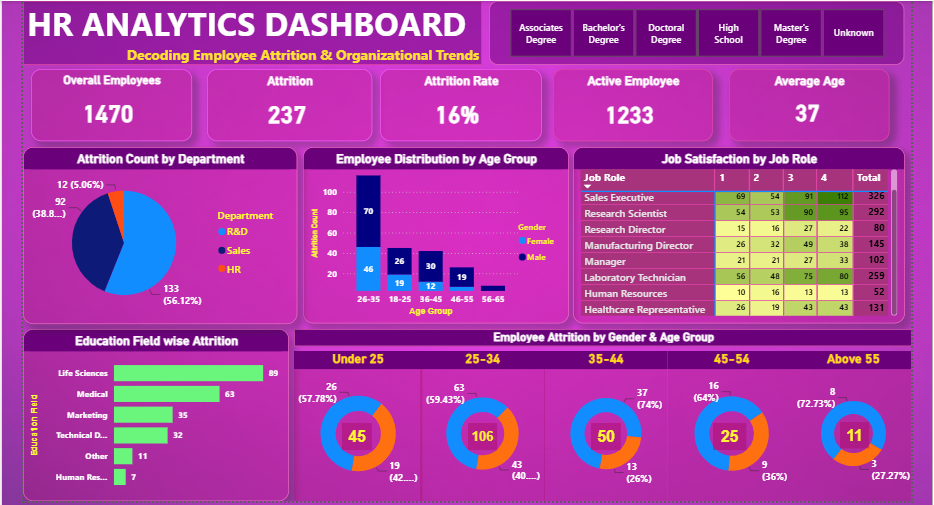

This screenshot's page, from the dashboard's own definition file:
{"tool":"powerbi","page":{"name":"Dashboard","canvas":[1280,720],"ordinal":1},"visuals":[{"type":"advanceCardE03760C5AB684758B56AA29F9E6C257B","title":"Overall Employees","fields":{"mainMeasure":["HR_Analytics_Cleaned.Employee Count"]},"box":[11.1,98.6,231.9,104.2],"z":0},{"type":"advanceCardE03760C5AB684758B56AA29F9E6C257B","title":"Attrition","fields":{"mainMeasure":["HR_Analytics_Cleaned.Attrition Count"]},"box":[265.3,98.6,237.5,104.2],"z":1000},{"type":"advanceCardE03760C5AB684758B56AA29F9E6C257B","title":"Attrition Rate","fields":{"mainMeasure":["HR_Analytics_Cleaned.Attrition Rate"]},"box":[513.9,98.6,233.3,104.2],"z":2000},{"type":"advanceCardE03760C5AB684758B56AA29F9E6C257B","title":"Active Employee","fields":{"mainMeasure":["HR_Analytics_Cleaned.Active Employees"],"tooltipMeasures":["HR_Analytics_Cleaned.Active Employees"]},"box":[762.5,98.6,230,104.2],"z":3000},{"type":"advanceCardE03760C5AB684758B56AA29F9E6C257B","title":"Average Age","fields":{"mainMeasure":["HR_Analytics_Cleaned.Average Age"]},"box":[1016.7,98.6,230.6,104.2],"z":4000},{"type":"columnChart","title":"Employee Distribution by Age Group","fields":{"Category":["HR_Analytics_Cleaned.Age Group"],"Y":["HR_Analytics_Cleaned.Attrition Count"],"Series":["HR_Analytics_Cleaned.Gender"]},"box":[402.8,209.7,383,254.2],"z":5000},{"type":"pivotTable","title":"Job Satisfaction by Job Role","fields":{"Rows":["HR_Analytics_Cleaned.Job Role"],"Columns":["HR_Analytics_Cleaned.Job Satisfaction"],"Values":["HR_Analytics_Cleaned.Total Employees"]},"box":[791.7,209.7,477.8,254.2],"z":6000},{"type":"barChart","title":"Education Field wise Attrition","fields":{"Category":["HR_Analytics_Cleaned.Education Field"],"Y":["HR_Analytics_Cleaned.Attrition Count"]},"box":[0,471.7,383.3,248.3],"z":7000},{"type":"donutChart","title":"Under 25","fields":{"Category":["HR_Analytics_Cleaned.Gender"],"Y":["HR_Analytics_Cleaned.Attrition Count"],"Series":["HR_Analytics_Cleaned.Age Band"]},"box":[390,503.3,185,216.7],"z":8000},{"type":"donutChart","title":"25-34","fields":{"Category":["HR_Analytics_Cleaned.Gender"],"Y":["HR_Analytics_Cleaned.Attrition Count"],"Series":["HR_Analytics_Cleaned.Age Band"]},"box":[571.7,503.3,180,216.7],"z":9000},{"type":"donutChart","title":"35-44","fields":{"Category":["HR_Analytics_Cleaned.Gender"],"Y":["HR_Analytics_Cleaned.Attrition Count"],"Series":["HR_Analytics_Cleaned.Age Band"]},"box":[750,503.3,178.3,216.7],"z":10000},{"type":"donutChart","title":"45-54","fields":{"Category":["HR_Analytics_Cleaned.Gender"],"Y":["HR_Analytics_Cleaned.Attrition Count"],"Series":["HR_Analytics_Cleaned.Age Band"]},"box":[928.3,503.3,183.3,216.7],"z":11000},{"type":"donutChart","title":"Above 55","fields":{"Category":["HR_Analytics_Cleaned.Gender"],"Y":["HR_Analytics_Cleaned.Attrition Count"],"Series":["HR_Analytics_Cleaned.Age Band"]},"box":[1111.7,503.3,168.3,216.7],"z":12000},{"type":"textbox","title":"Employee Attrition by Gender & Age Group","box":[390,471.7,890,25],"z":13000},{"type":"pieChart","fields":{"Category":["HR_Analytics_Cleaned.Department"],"Y":["HR_Analytics_Cleaned.Attrition Count"]},"box":[0,210,395,255],"z":14000},{"type":"advanceCardE03760C5AB684758B56AA29F9E6C257B","fields":{"mainMeasure":["HR_Analytics_Cleaned.Attrition Count"]},"box":[459.7,607.5,43.3,38.8],"z":15000},{"type":"advanceCardE03760C5AB684758B56AA29F9E6C257B","fields":{"mainMeasure":["HR_Analytics_Cleaned.Attrition Count"]},"box":[640.3,607.5,42,38.8],"z":16000},{"type":"advanceCardE03760C5AB684758B56AA29F9E6C257B","fields":{"mainMeasure":["HR_Analytics_Cleaned.Attrition Count"]},"box":[817.9,607.5,43.3,38.8],"z":17000},{"type":"advanceCardE03760C5AB684758B56AA29F9E6C257B","fields":{"mainMeasure":["HR_Analytics_Cleaned.Attrition Count"]},"box":[994,607.5,47.8,38.8],"z":18000},{"type":"advanceCardE03760C5AB684758B56AA29F9E6C257B","fields":{"mainMeasure":["HR_Analytics_Cleaned.Attrition Count"]},"box":[1176.7,606.7,41.7,38.3],"z":19000},{"type":"textbox","title":"HR ANALYTICS DASHBOARD","box":[0,0,661,92.2],"z":20000},{"type":"slicer","fields":{"Values":["HR_Analytics_Cleaned.Education"]},"box":[671.7,0,598.3,91.7],"z":21000}]}

Visuals, with their boxes on the page's 1280x720 design canvas (x1, y1, x2, y2). These are canvas units, not pixel positions in the 934x505 screenshot, which may show the page scaled, cropped or inside an application window:
"Overall Employees" advanceCardE03760C5AB684758B56AA29F9E6C257B: [left=11, top=99, right=243, bottom=203]
"Attrition" advanceCardE03760C5AB684758B56AA29F9E6C257B: [left=265, top=99, right=503, bottom=203]
"Attrition Rate" advanceCardE03760C5AB684758B56AA29F9E6C257B: [left=514, top=99, right=747, bottom=203]
"Active Employee" advanceCardE03760C5AB684758B56AA29F9E6C257B: [left=762, top=99, right=992, bottom=203]
"Average Age" advanceCardE03760C5AB684758B56AA29F9E6C257B: [left=1017, top=99, right=1247, bottom=203]
"Employee Distribution by Age Group" columnChart: [left=403, top=210, right=786, bottom=464]
"Job Satisfaction by Job Role" pivotTable: [left=792, top=210, right=1270, bottom=464]
"Education Field wise Attrition" barChart: [left=0, top=472, right=383, bottom=720]
"Under 25" donutChart: [left=390, top=503, right=575, bottom=720]
"25-34" donutChart: [left=572, top=503, right=752, bottom=720]
"35-44" donutChart: [left=750, top=503, right=928, bottom=720]
"45-54" donutChart: [left=928, top=503, right=1112, bottom=720]
"Above 55" donutChart: [left=1112, top=503, right=1280, bottom=720]
"Employee Attrition by Gender & Age Group" textbox: [left=390, top=472, right=1280, bottom=497]
pieChart - HR_Analytics_Cleaned.Department x HR_Analytics_Cleaned.Attrition Count: [left=0, top=210, right=395, bottom=465]
advanceCardE03760C5AB684758B56AA29F9E6C257B - HR_Analytics_Cleaned.Attrition Count: [left=460, top=608, right=503, bottom=646]
advanceCardE03760C5AB684758B56AA29F9E6C257B - HR_Analytics_Cleaned.Attrition Count: [left=640, top=608, right=682, bottom=646]
advanceCardE03760C5AB684758B56AA29F9E6C257B - HR_Analytics_Cleaned.Attrition Count: [left=818, top=608, right=861, bottom=646]
advanceCardE03760C5AB684758B56AA29F9E6C257B - HR_Analytics_Cleaned.Attrition Count: [left=994, top=608, right=1042, bottom=646]
advanceCardE03760C5AB684758B56AA29F9E6C257B - HR_Analytics_Cleaned.Attrition Count: [left=1177, top=607, right=1218, bottom=645]
"HR ANALYTICS DASHBOARD" textbox: [left=0, top=0, right=661, bottom=92]
slicer - HR_Analytics_Cleaned.Education: [left=672, top=0, right=1270, bottom=92]
